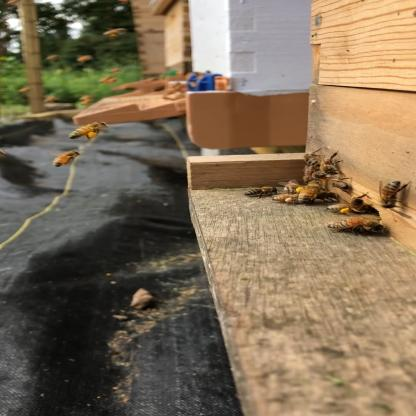bee: (285, 137, 416, 251), (324, 210, 398, 244), (26, 144, 105, 175), (35, 119, 132, 142), (370, 175, 416, 214), (236, 182, 290, 203)
